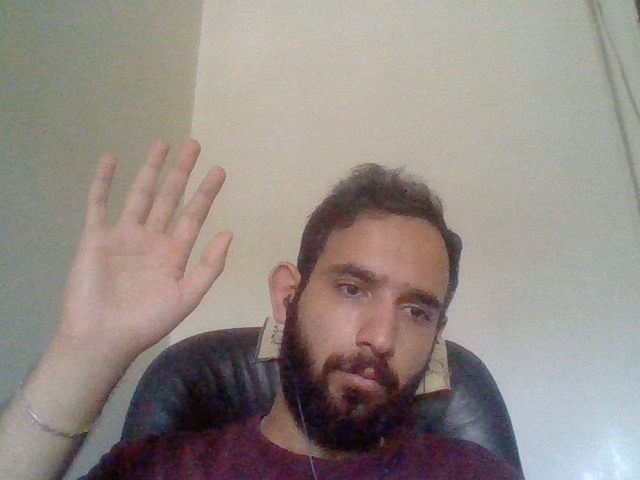Goodbye: (63, 131, 241, 377)
